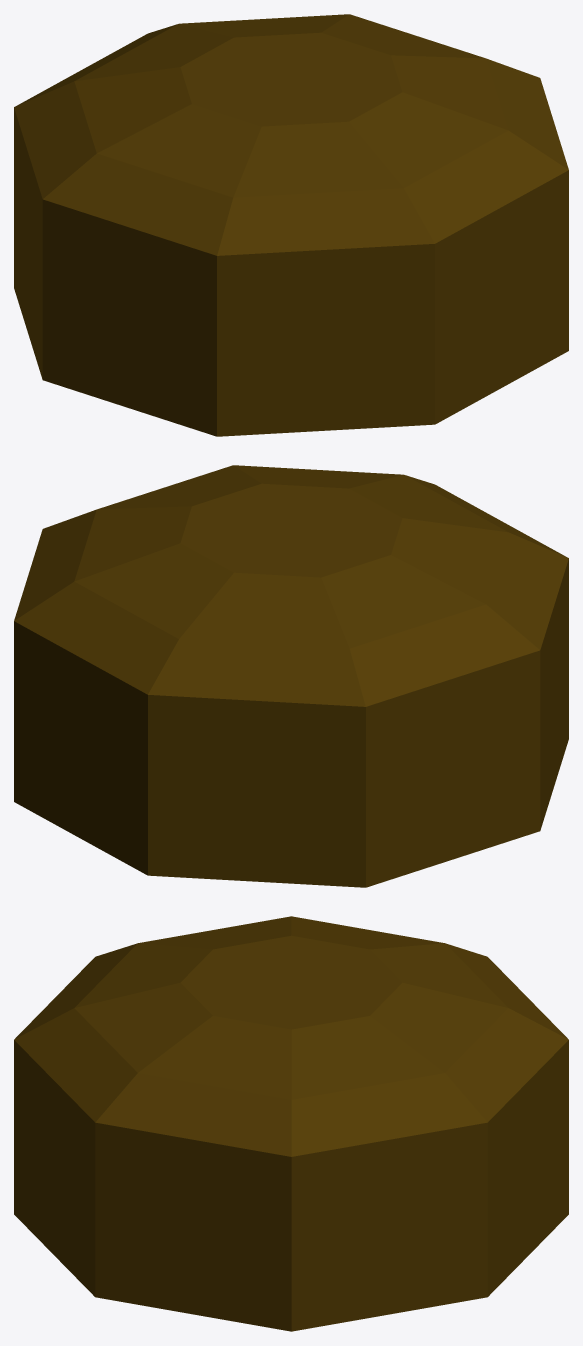
The model's file is Dirt Mound.fbx.
3 renders of one model, top to bottom at view 1: azimuth 30°, elevation 25°; view 2: azimuth 150°, elevation 25°; view 3: azimuth 270°, elevation 25°, orthographic. The views are drawn at different scales.
Visible parts, largest first — view 1: pCylinder1; view 2: pCylinder1; view 3: pCylinder1.
Boxes of the visible parts, x1,y1,x2,y2 form: pCylinder1: (14, 14, 568, 436); pCylinder1: (14, 465, 568, 887); pCylinder1: (14, 916, 568, 1331).
Bounding box in the file's own units: 2 × 0.9213 × 2.
